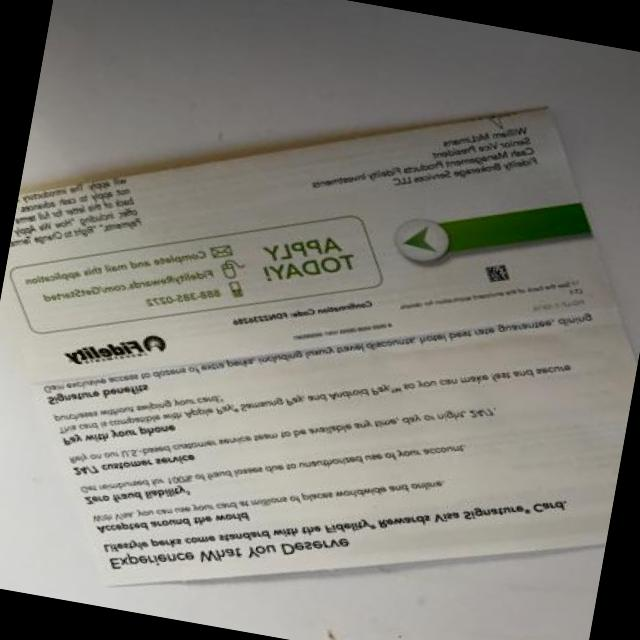paper: (0, 110, 635, 584)
